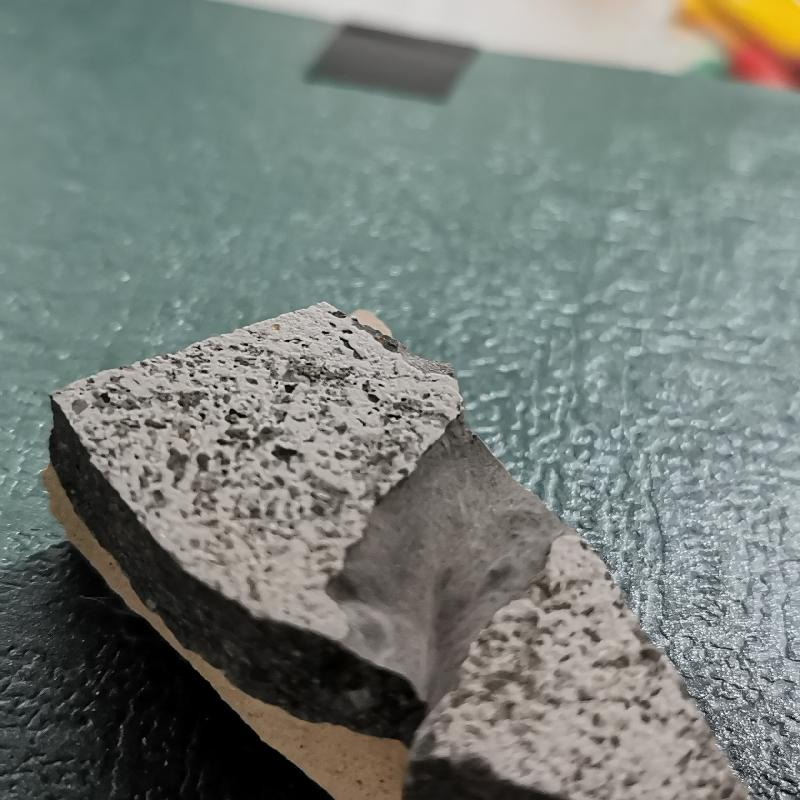tile: (41, 297, 757, 800)
